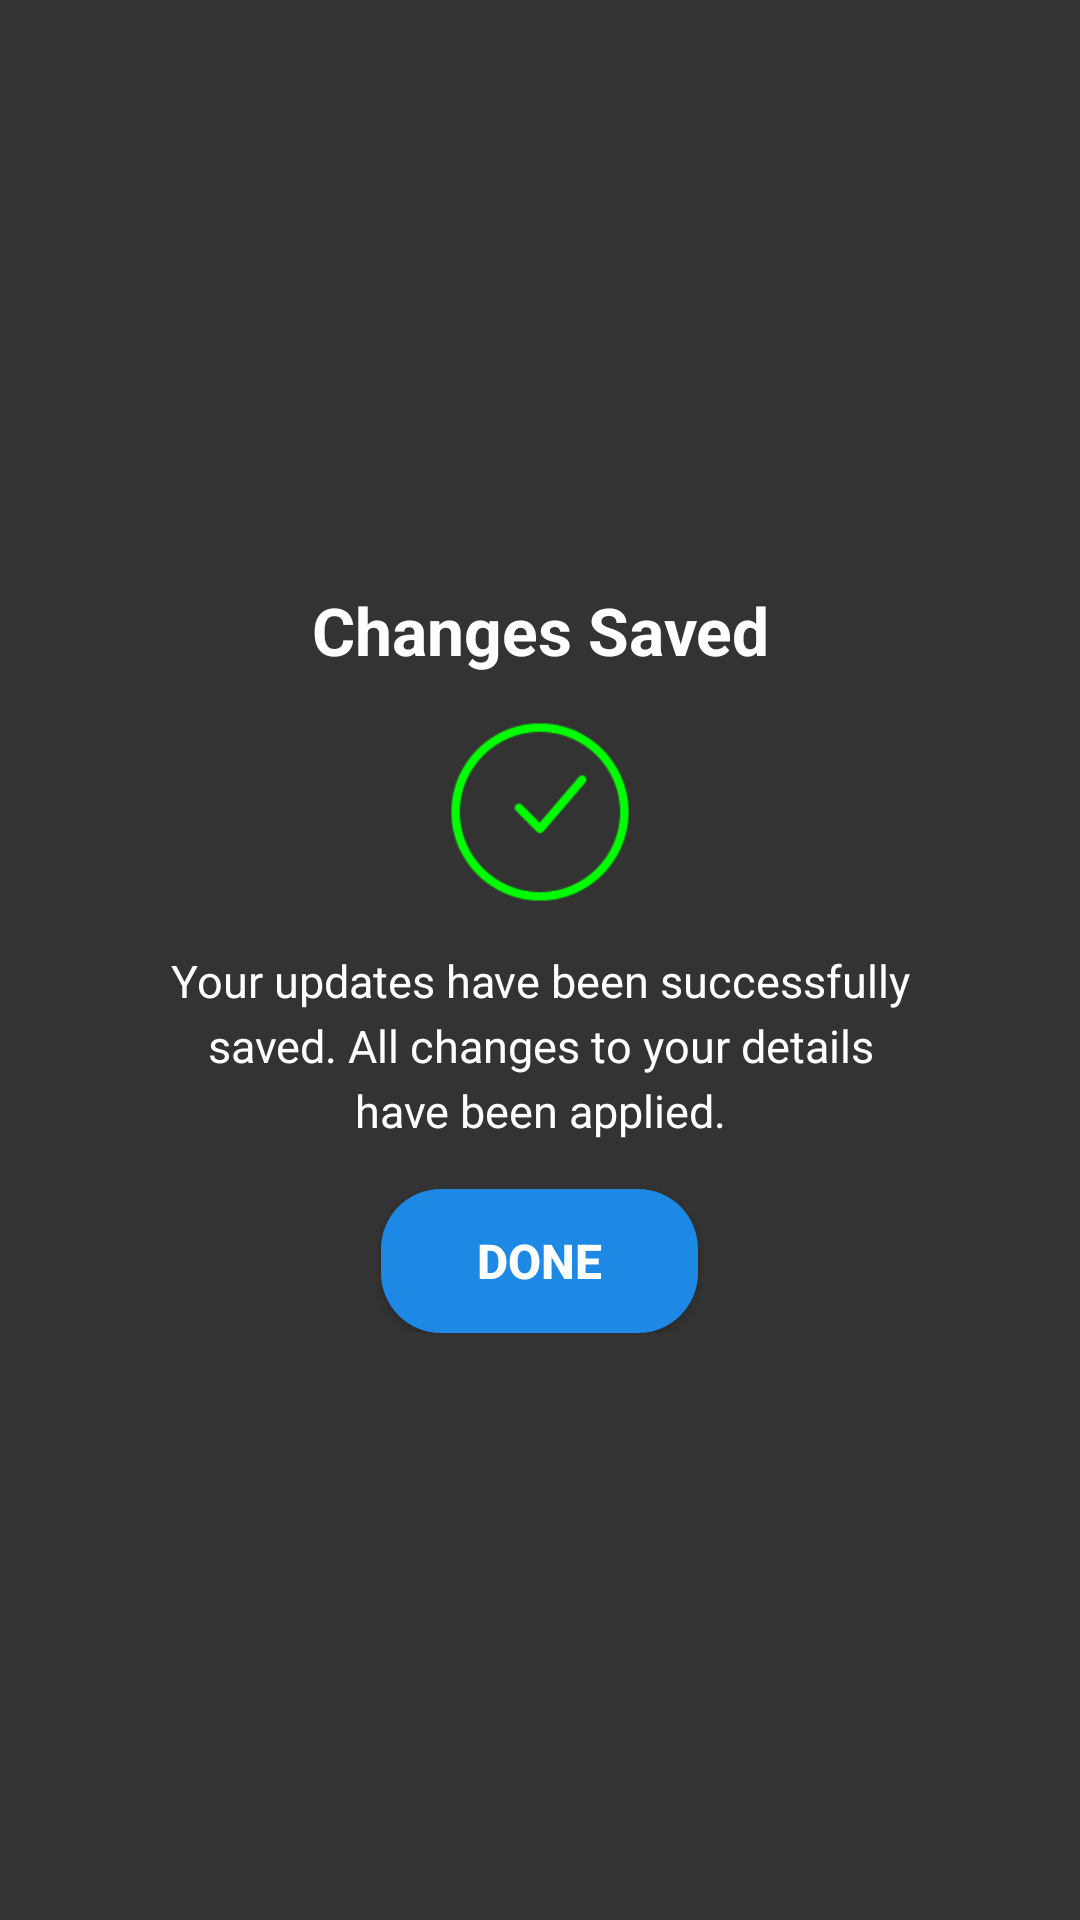

Screen size 1080w x 1920h. Icon name, then its center in pixels as (x=x, y=y):
Tick: (x=540, y=812)
